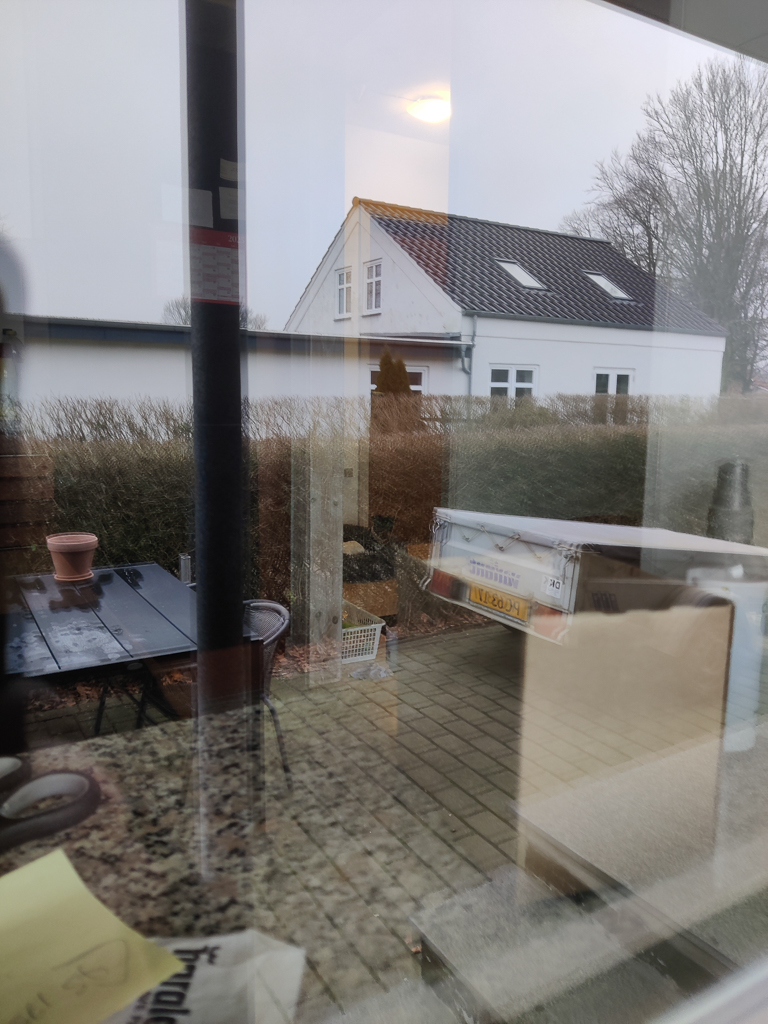Dog: (335, 507, 399, 560)
